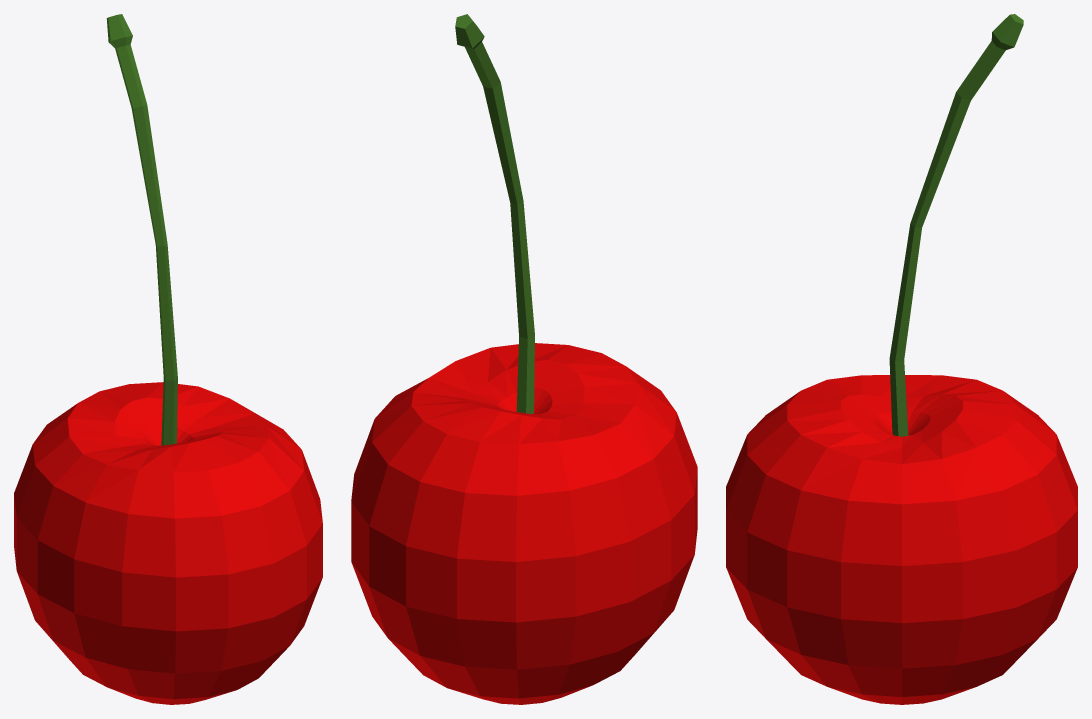
Rendered from cherry.glb.
3 renders of one model, left to right at view 1: azimuth 30°, elevation 25°; view 2: azimuth 150°, elevation 25°; view 3: azimuth 270°, elevation 25°, orthographic. The views are drawn at different scales.
Visible parts, largest first — view 1: Cherry; view 2: Cherry; view 3: Cherry.
Boxes of the visible parts, left/top/right/bottom form: Cherry: left=14, top=14, right=322, bottom=704; Cherry: left=351, top=14, right=697, bottom=704; Cherry: left=726, top=14, right=1077, bottom=704.
Bounding box in the file's own units: 49.62 × 116 × 54.48.
1 material, 1 textured.
